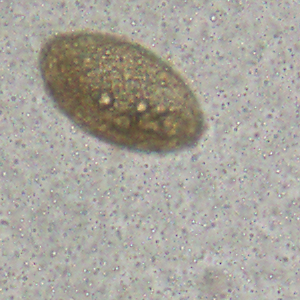Fasciola_hepatica_egg: (37, 27, 206, 151)
